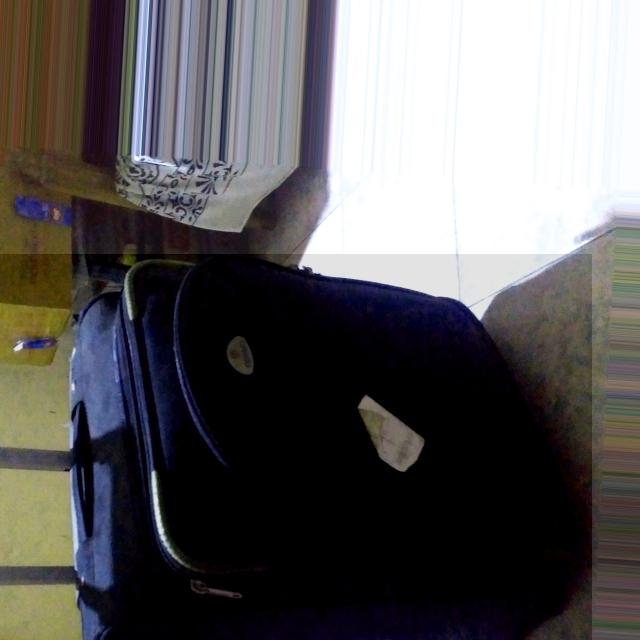Bag: (1, 258, 595, 634)
Handle: (0, 422, 105, 640)
